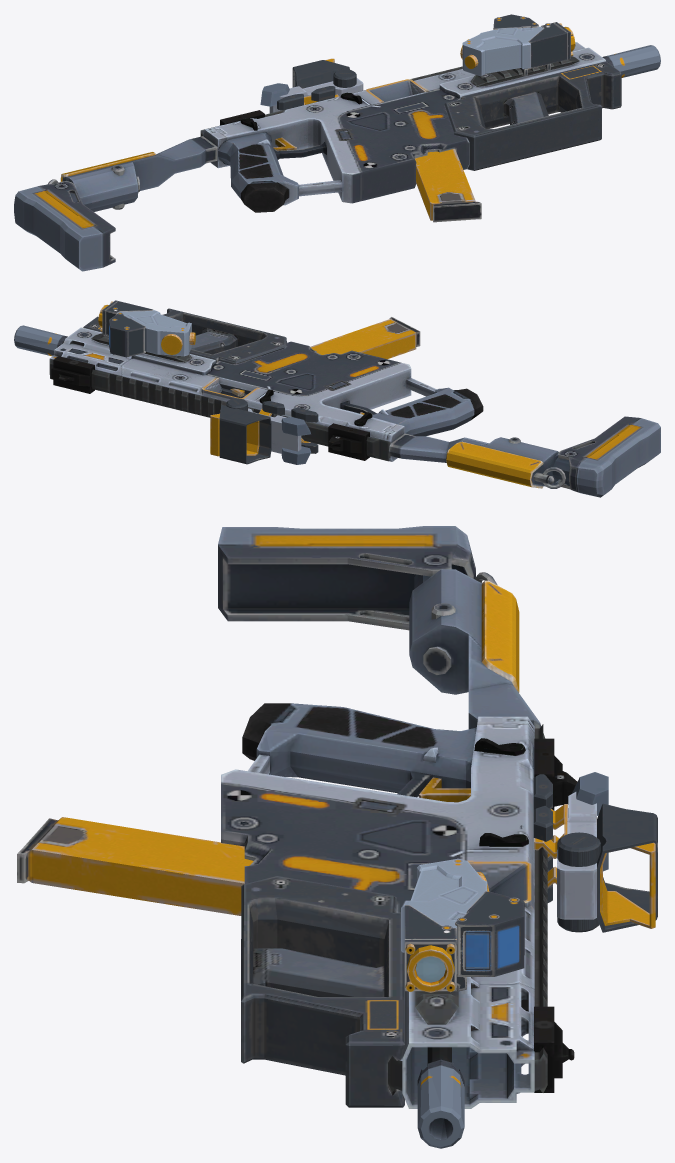
3 renders of one model, top to bottom at view 1: azimuth 30°, elevation 25°; view 2: azimuth 150°, elevation 25°; view 3: azimuth 270°, elevation 25°, orthographic. The views are drawn at different scales.
Visible parts, largest first — view 1: wp01a_a001a_sm.mo, wp01a_attach001a_sm.mo, wp01a_magazine001a_sm.mo, wp01a_scope001a_sm.mo, wp01a_muzzle001a_sm.mo; view 2: wp01a_a001a_sm.mo, wp01a_scope001a_sm.mo, wp01a_attach001a_sm.mo, wp01a_magazine001a_sm.mo, wp01a_muzzle001a_sm.mo; view 3: wp01a_a001a_sm.mo, wp01a_magazine001a_sm.mo, wp01a_scope001a_sm.mo, wp01a_attach001a_sm.mo, wp01a_muzzle001a_sm.mo.
Part boxes in pixels (x1,y1,x2,y2): wp01a_a001a_sm.mo: (14, 42, 621, 271); wp01a_attach001a_sm.mo: (460, 14, 575, 76); wp01a_magazine001a_sm.mo: (415, 149, 481, 222); wp01a_scope001a_sm.mo: (260, 58, 363, 113); wp01a_muzzle001a_sm.mo: (602, 45, 660, 77); wp01a_a001a_sm.mo: (49, 308, 660, 497); wp01a_scope001a_sm.mo: (210, 398, 318, 464); wp01a_attach001a_sm.mo: (98, 300, 195, 357); wp01a_magazine001a_sm.mo: (230, 317, 420, 397); wp01a_muzzle001a_sm.mo: (14, 325, 67, 356); wp01a_a001a_sm.mo: (218, 526, 577, 1108); wp01a_magazine001a_sm.mo: (17, 817, 253, 915); wp01a_scope001a_sm.mo: (533, 772, 657, 932); wp01a_attach001a_sm.mo: (401, 858, 524, 992); wp01a_muzzle001a_sm.mo: (417, 1059, 464, 1148).
Size of the model in its own units: 0.6021 by 0.0735 by 0.2841.
Materials: 6 (6 with a texture image).
